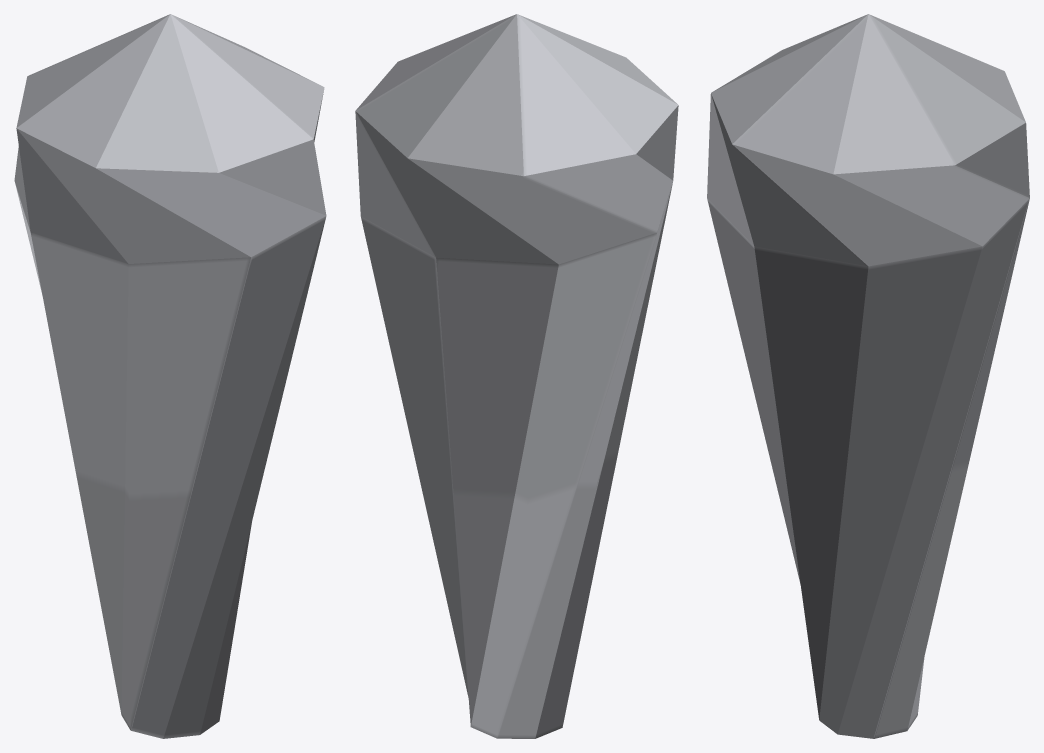
The model's file is crystal100.obj.
3 views of the same model, side by side, from view 1: azimuth 30°, elevation 25°; view 2: azimuth 150°, elevation 25°; view 3: azimuth 270°, elevation 25° (orthographic).
Visible parts, largest first — view 1: Cylinder; view 2: Cylinder; view 3: Cylinder.
Boxes of the visible parts, box(x1,y1,x2,y2) form: Cylinder: box(14, 14, 326, 738); Cylinder: box(355, 14, 678, 738); Cylinder: box(707, 14, 1029, 738).
Size of the model in its own units: 7.52 by 18.09 by 7.52.
Materials: 1 (1 with a texture image).
